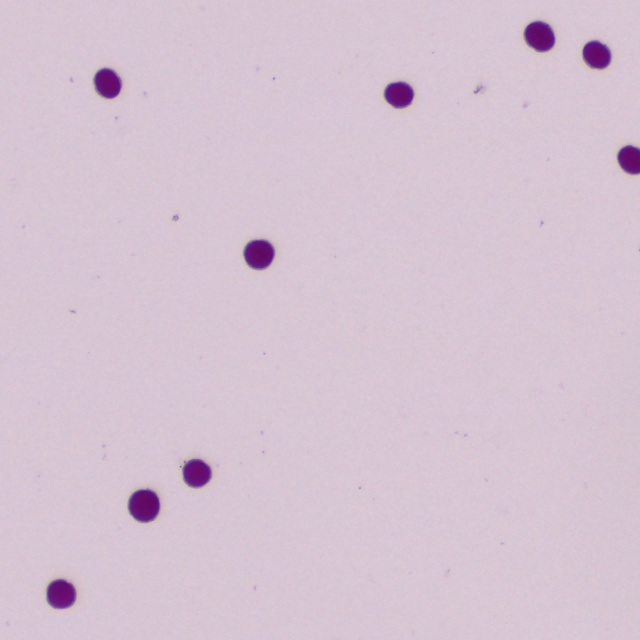viable: (129, 490, 159, 522), (525, 22, 554, 51), (245, 241, 274, 269), (47, 580, 75, 608), (184, 459, 211, 487), (95, 69, 121, 98), (583, 42, 610, 69), (385, 82, 413, 107), (619, 146, 639, 173)
